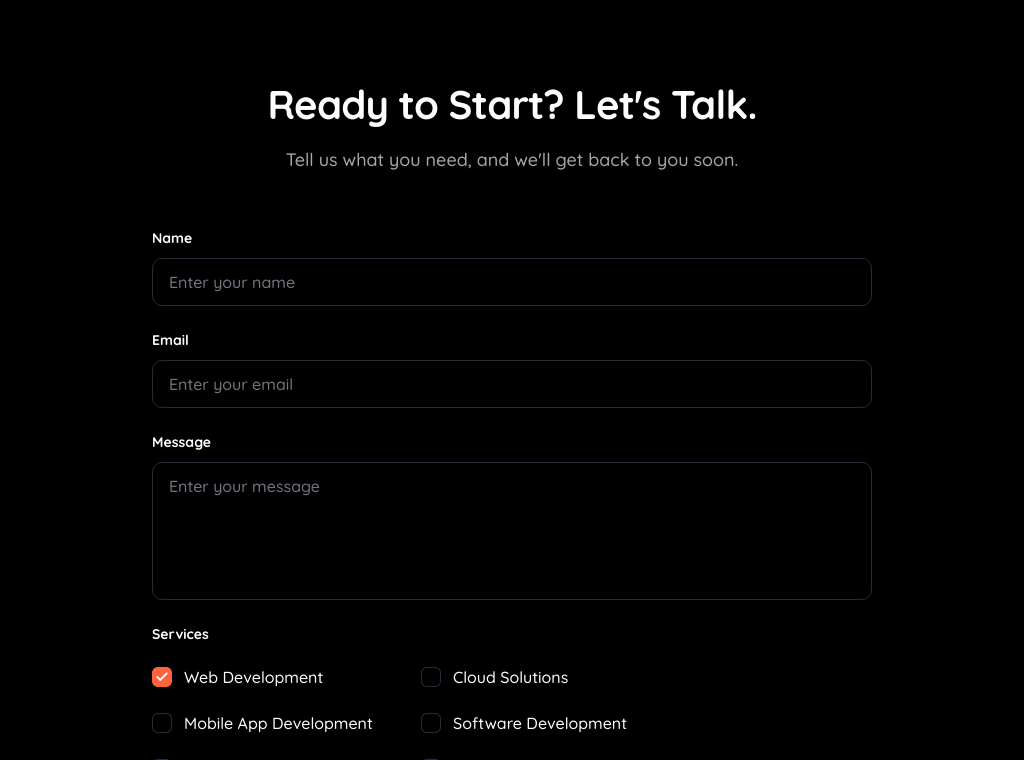
Test: ContactFormSection › submits successfully and shows the success popup when the form is valid
Type "Yusuf" into the field labelled "Name" at (512, 282), box [152,258,872,306]
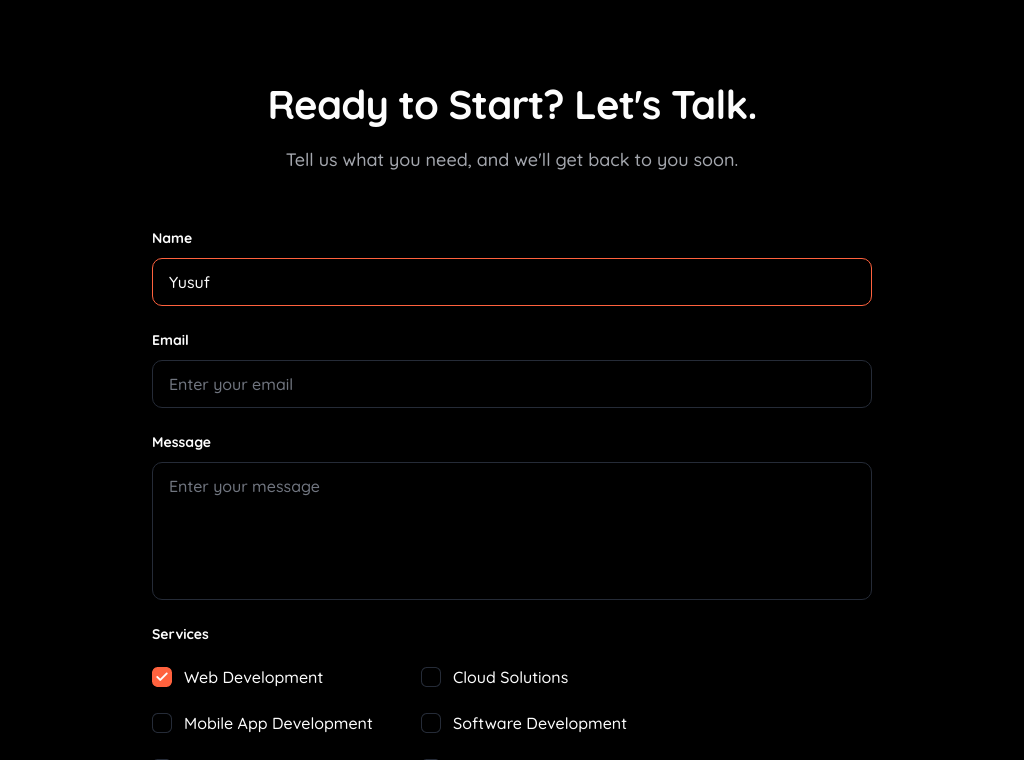
Type "yusuf@example.com" into the field labelled "Email" at (512, 384), box [152,360,872,408]
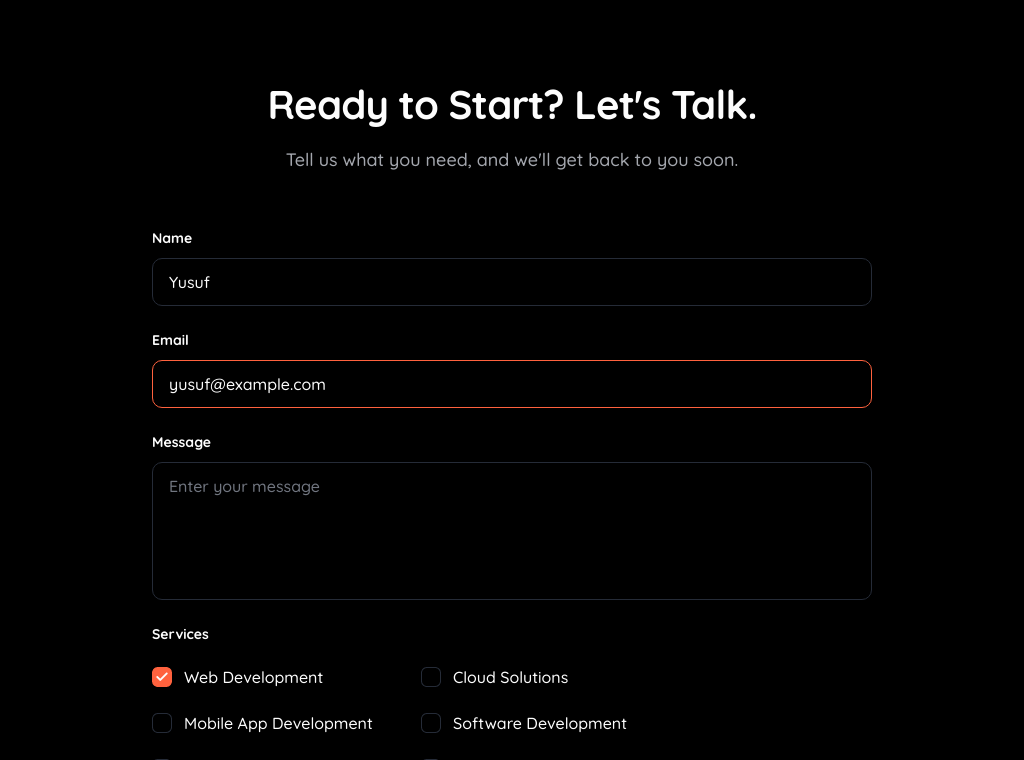
Type "Hello, I would like a quote." into the text box labelled "Message" at (512, 531), box [152,462,872,600]
(page scrolled)
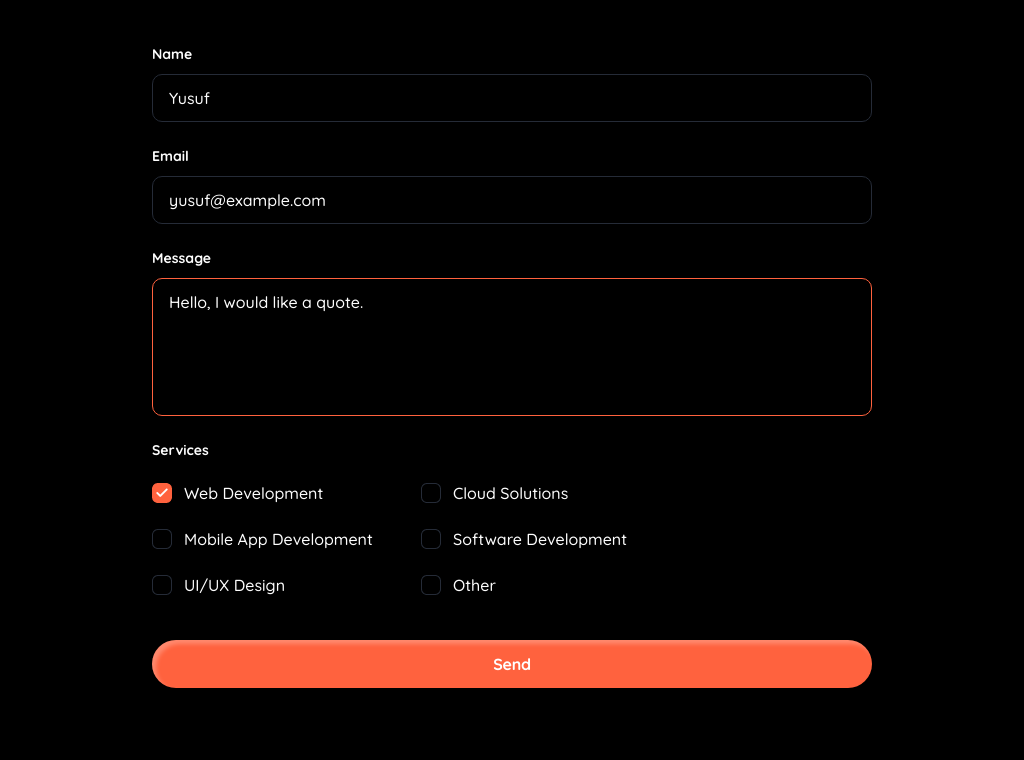
Click the button "Send" at (512, 664), box [152,640,872,688]
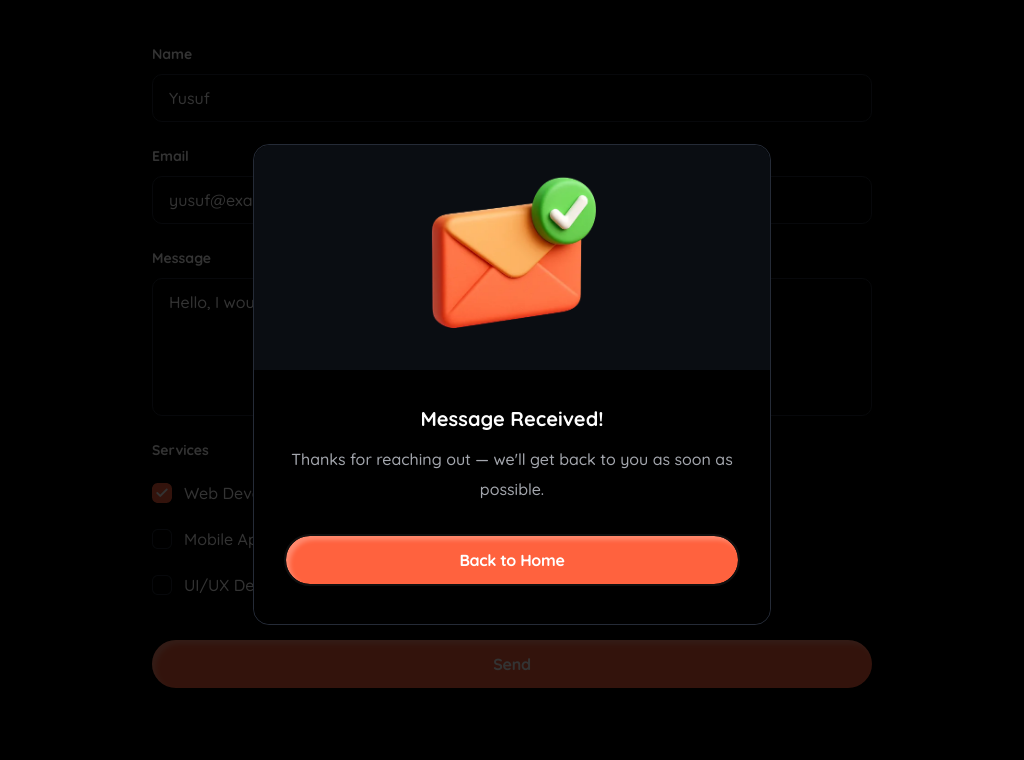
Check: the heading "Message Received!" is shown, box [420,406,604,430]
